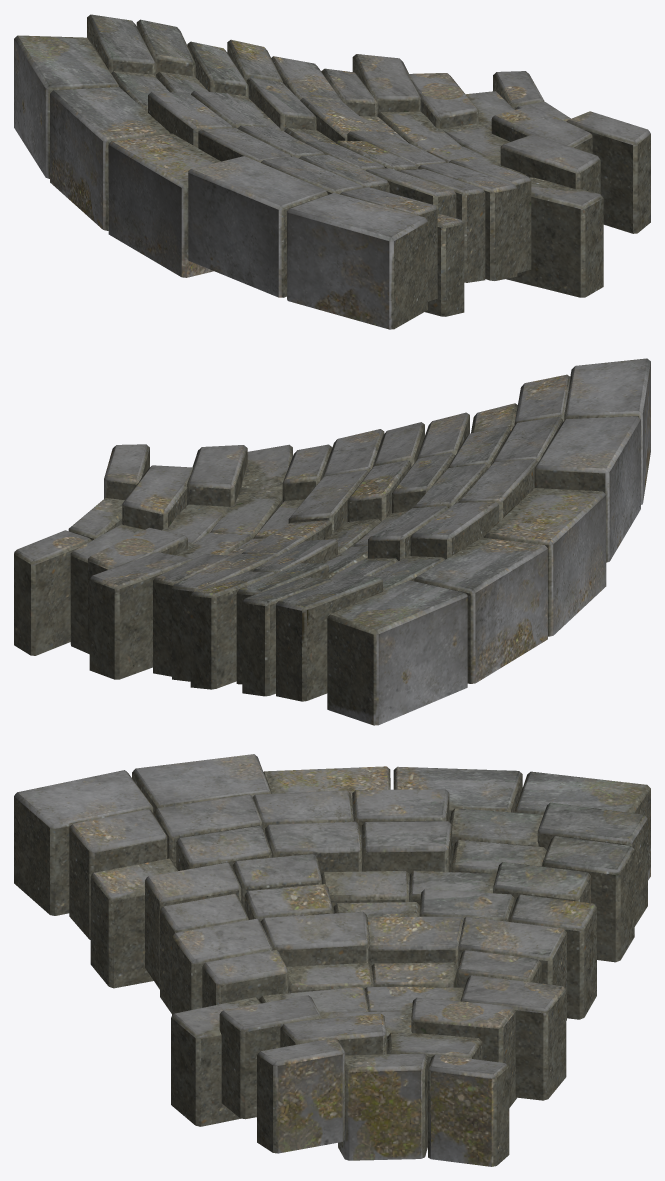
The model's file is broken_ring_segment.glb.
3 renders of one model, top to bottom at view 1: azimuth 30°, elevation 25°; view 2: azimuth 150°, elevation 25°; view 3: azimuth 270°, elevation 25°, orthographic. The views are drawn at different scales.
Parts seen in each view (by area): view 1: Object_3; view 2: Object_3; view 3: Object_3.
Part boxes in pixels (x1,y1,x2,y2): Object_3: [14, 14, 650, 329]; Object_3: [14, 358, 650, 725]; Object_3: [14, 754, 650, 1166].
Size of the model in its own units: 466 by 179 by 535.
Materials: 1 (1 with a texture image).
